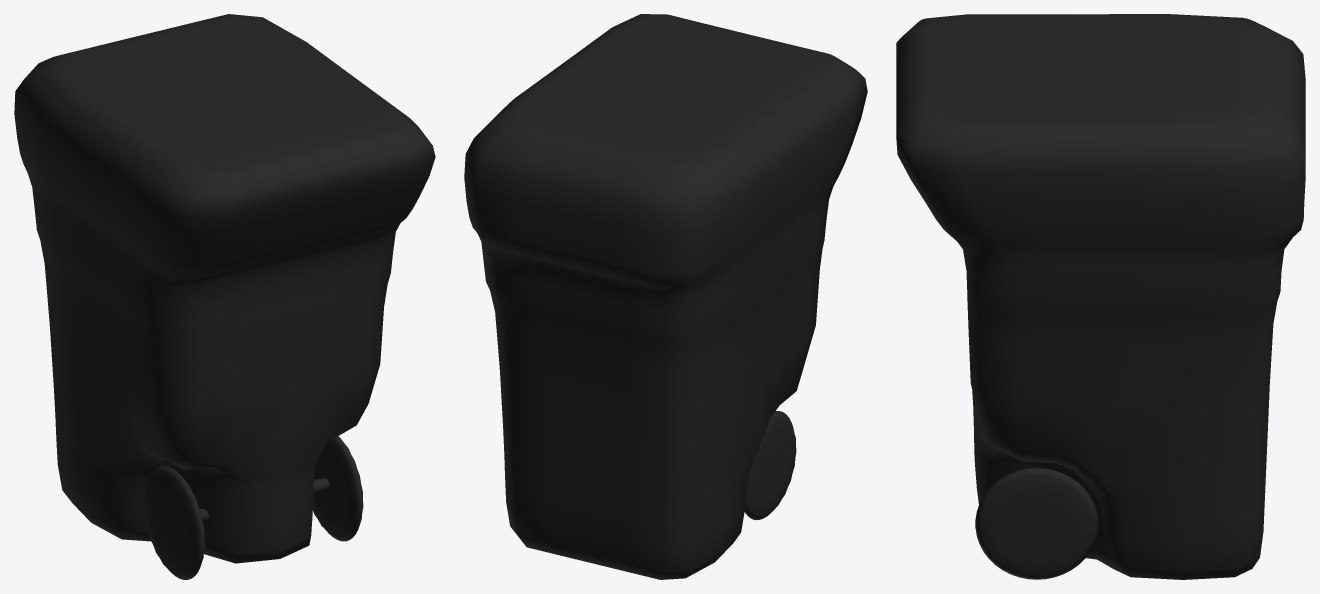
The model's file is TrashCan.fbx.
3 views of the same model, side by side, from view 1: azimuth 30°, elevation 25°; view 2: azimuth 150°, elevation 25°; view 3: azimuth 270°, elevation 25° (orthographic). The views are drawn at different scales.
Parts seen in each view (by area): view 1: TrashCan; view 2: TrashCan; view 3: TrashCan.
Part boxes in pixels (x1,y1,x2,y2): TrashCan: (14,14,435,579); TrashCan: (464,14,867,579); TrashCan: (896,14,1305,579).
Size of the model in its own units: 2.59 by 4.14 by 3.27.
